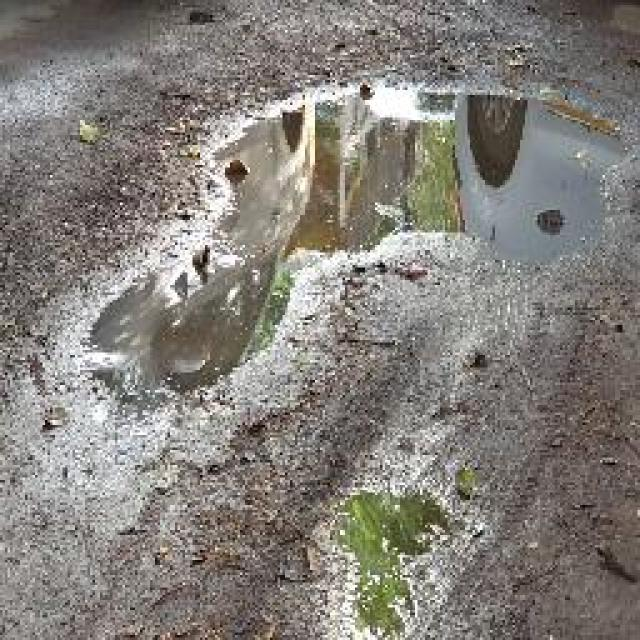puddle: (86, 83, 635, 415), (332, 483, 449, 640)
